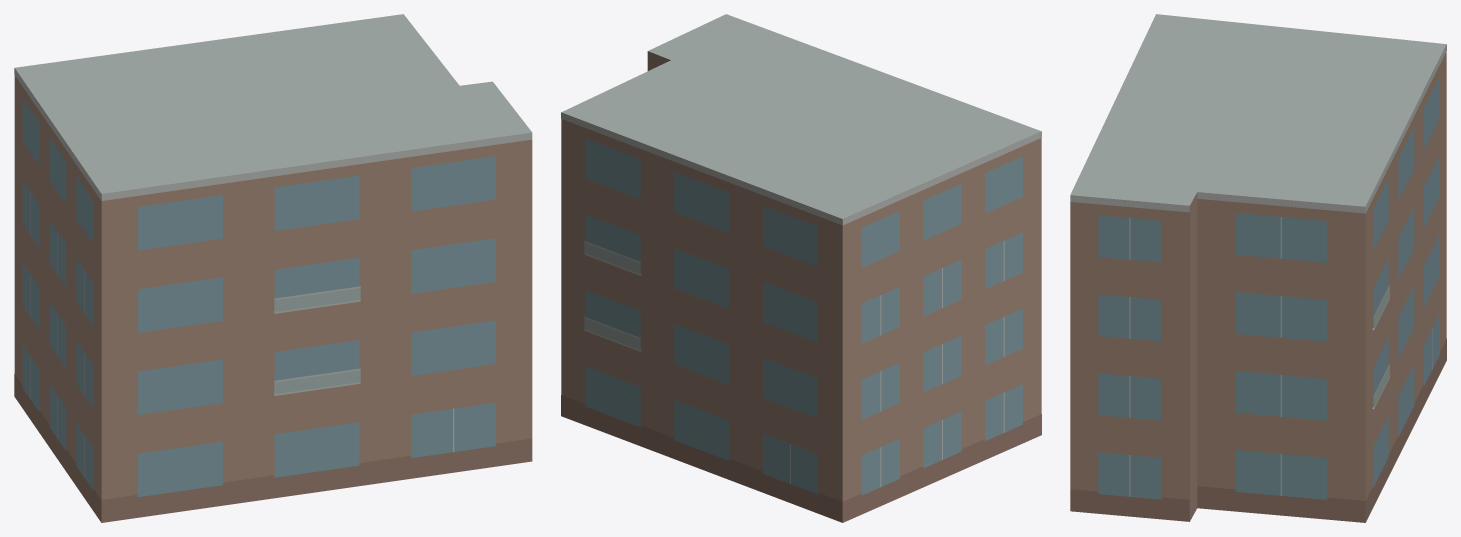
The model's file is survey-upis-32984341.glb.
3 renders of one model, left to right at view 1: azimuth 30°, elevation 25°; view 2: azimuth 150°, elevation 25°; view 3: azimuth 270°, elevation 25°, orthographic. The views are drawn at different scales.
Parts seen in each view (by area): view 1: survey-upis-32984341.tmp; view 2: survey-upis-32984341.tmp; view 3: survey-upis-32984341.tmp.
Part boxes in pixels (left/top/right/bottom): survey-upis-32984341.tmp: left=14, top=14, right=532, bottom=522; survey-upis-32984341.tmp: left=561, top=14, right=1041, bottom=522; survey-upis-32984341.tmp: left=1070, top=14, right=1446, bottom=522.
Size of the model in its own units: 15.05 by 11.5 by 12.43.
